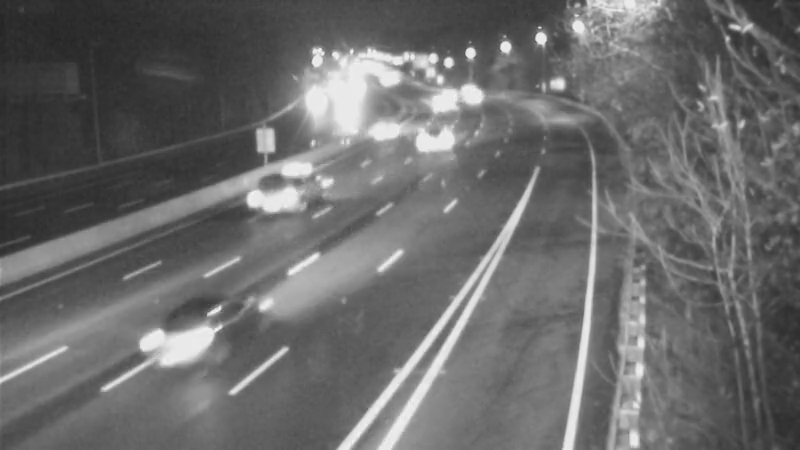vehicle: (127, 287, 237, 397), (237, 152, 317, 232), (424, 71, 474, 121), (449, 73, 499, 123), (412, 79, 462, 129), (360, 101, 410, 151), (399, 112, 449, 162), (294, 73, 344, 123)
